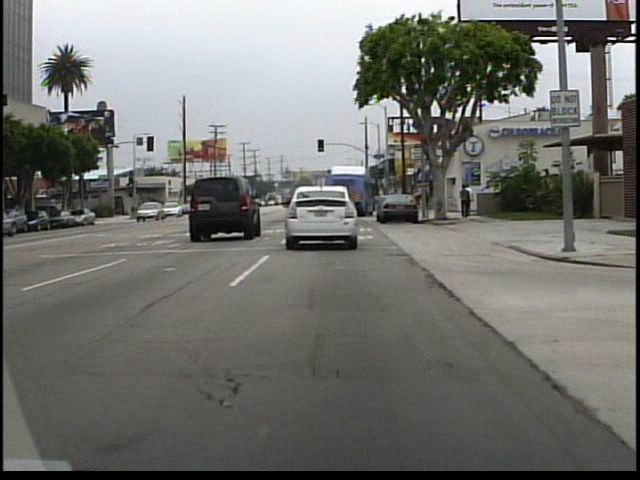person: (457, 185, 472, 224), (465, 182, 476, 219)
